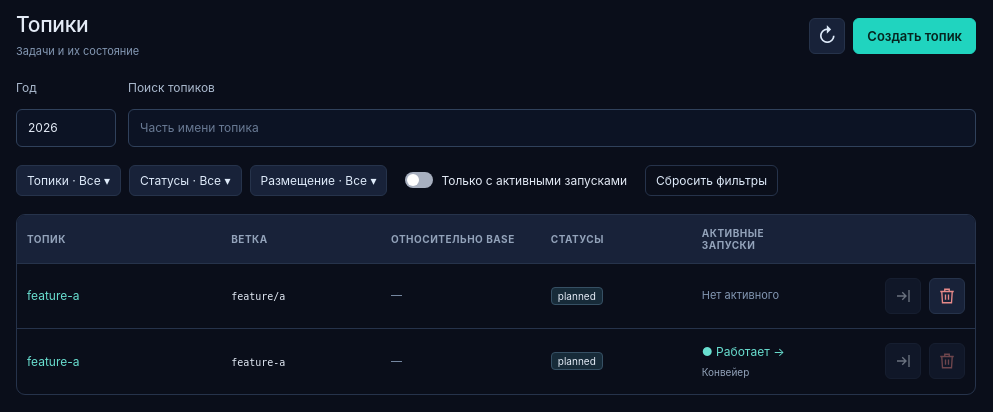
Scenario: keeps runs and active filtering separate for branches that normalize to the same topic
This screenshot has width=993, height=412.
Expected: the button with aria-label "Открыть запуск twin-run" is shown, [702,343,785,380]
Click the switch labelled "Только с активными запусками". click: (516, 180)
box: [395,165,637,195]
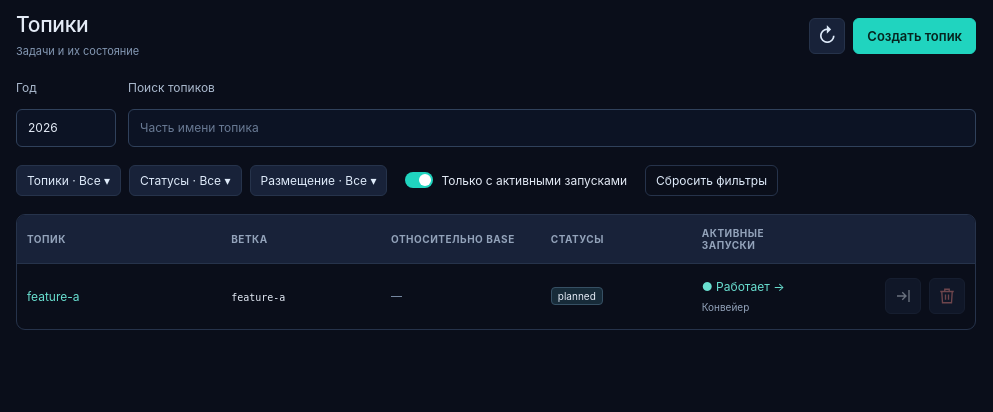
Expected: the button with aria-label "Открыть запуск twin-run" is shown, [702,278,785,315]
Result: the number of buttons named "Открыть топик feature-a" is 1 at [27,289,80,304]
